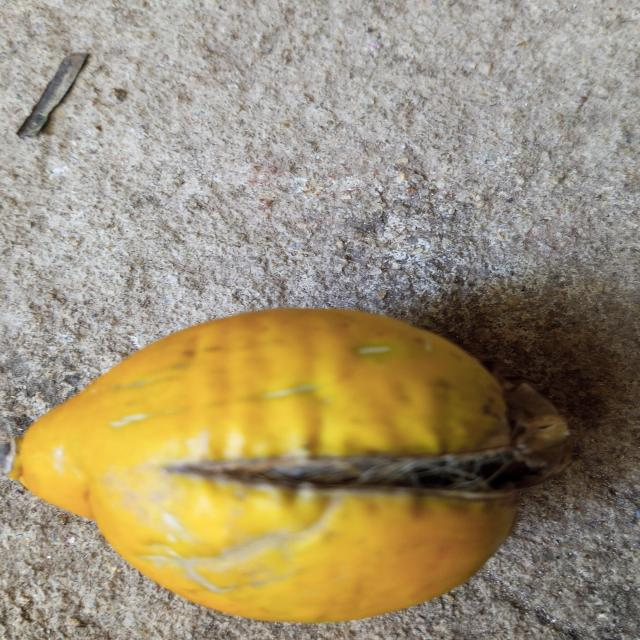damaged: (4, 309, 571, 622)
